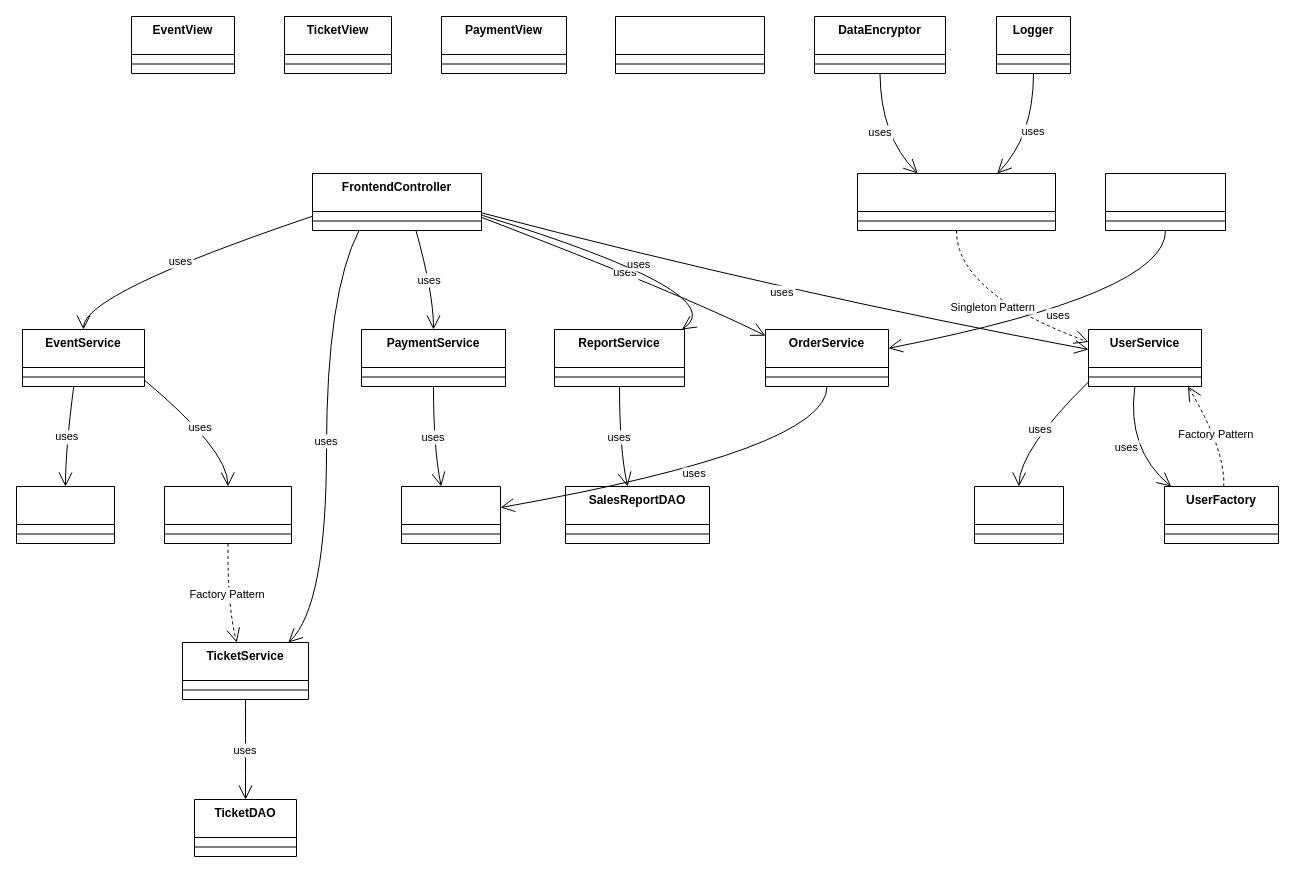
This 1295x873 diagram has some shape labels left out. Here are the shapes that lost their labels. From the top down, the centre of each, then its label:
At (x=689, y=45): "OrderStatusView".
At (x=956, y=201): "AuthenticationManager".
At (x=1165, y=201): "EmailService".
At (x=65, y=515): "EventDAO".
At (x=228, y=515): "TicketFactory".
At (x=450, y=515): "OrderDAO".
At (x=1019, y=515): "UserDAO".
